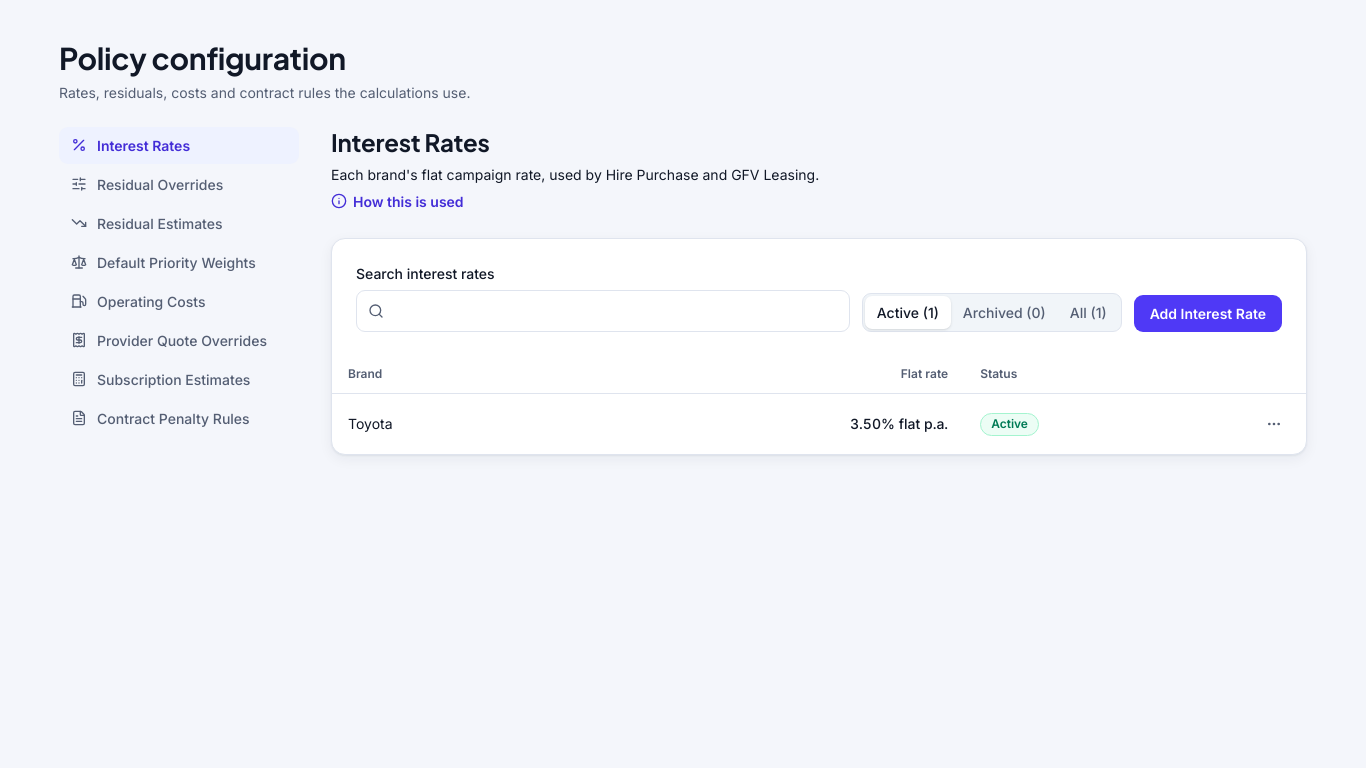
it: AdminPolicyPage › adds a read-only Residual Estimates tab showing the baseline grid and the adjustments with their notes
Check: the text "3.50% flat p.a." is shown, box 566,394 -> 964,454
Click the tab "Residual Estimates". click: (179, 223)
box: 59,204 -> 299,242
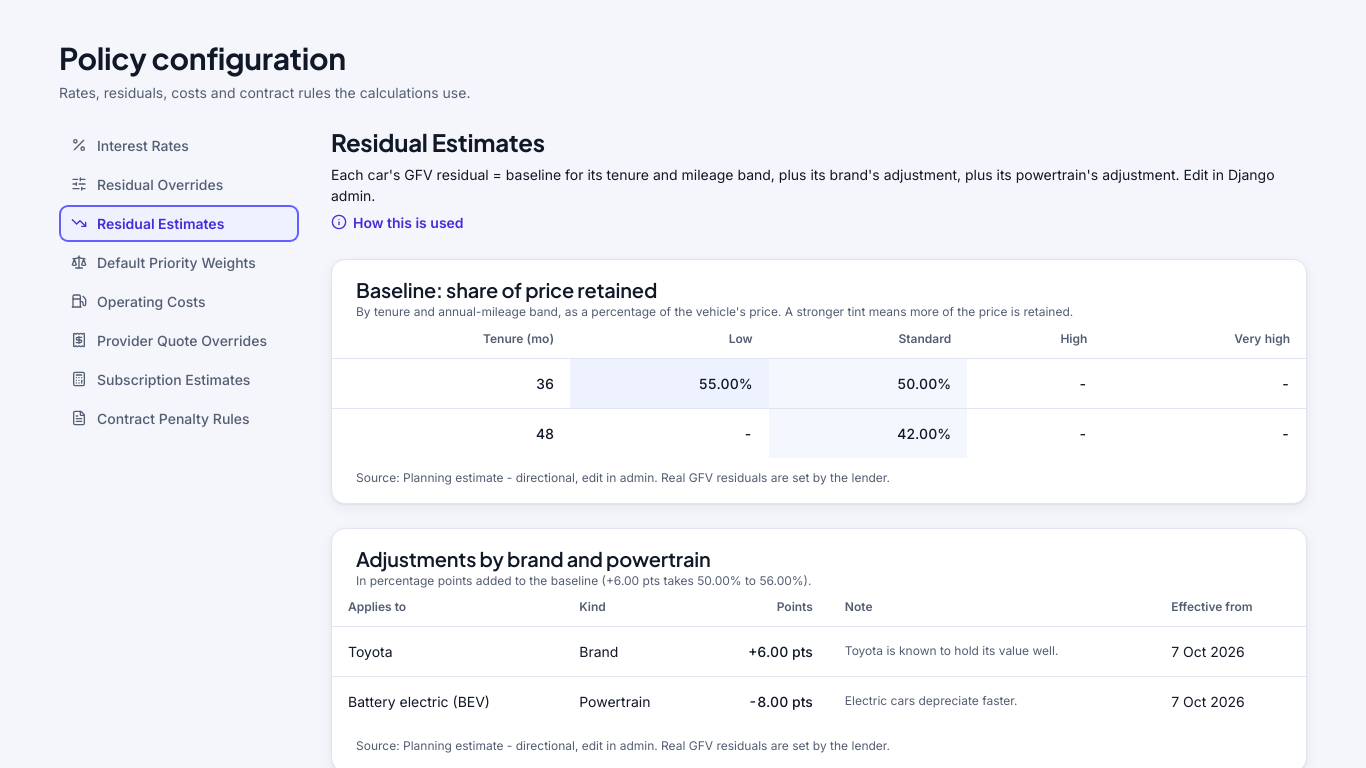
Check: the heading "Baseline: share of price retained" is shown, box 356,277 -> 657,302
Check: the text "55.00%" is shown, box 570,358 -> 769,408
Check: the text "42.00%" is shown, box 769,408 -> 967,458
